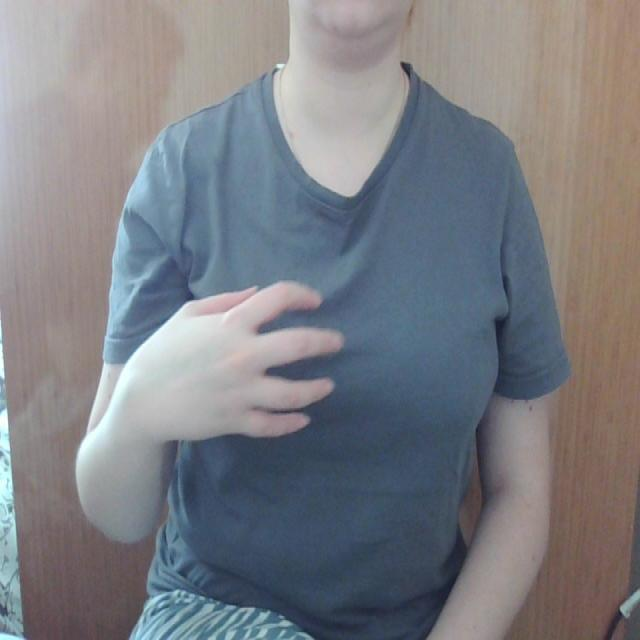Anne: (111, 277, 416, 443)
